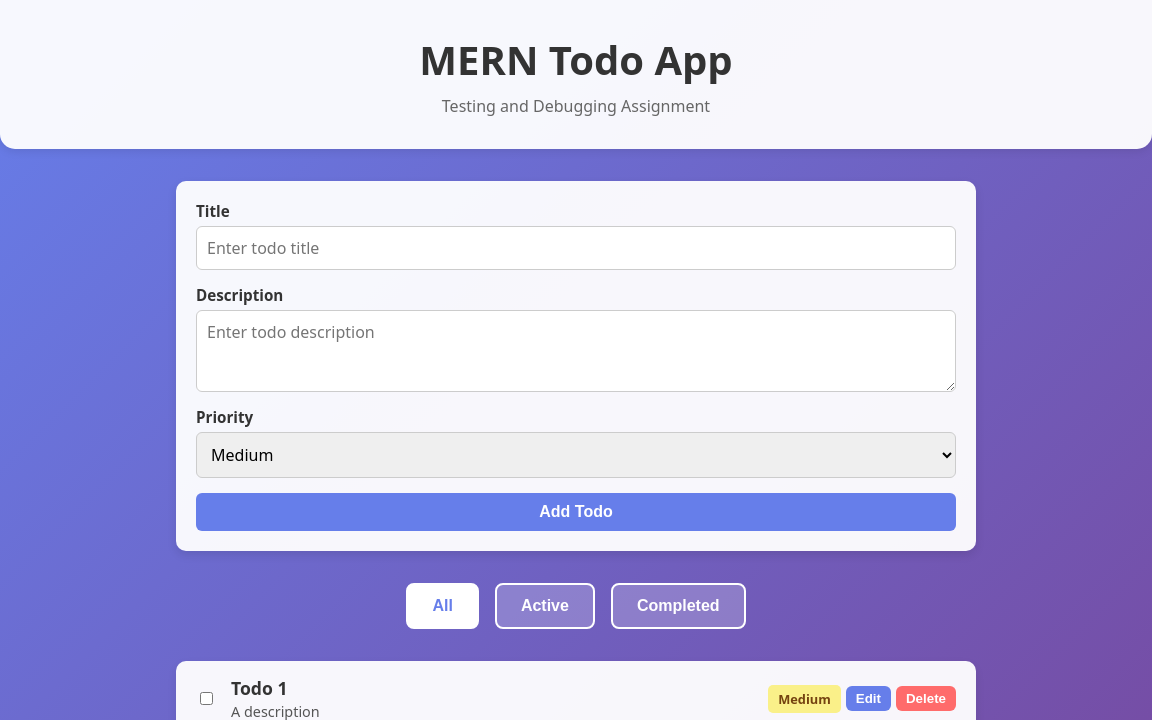
Test: App Component › deletes a todo
This screenshot has width=1152, height=720.
Expected: the heading "Todo 1" is shown, [231,676,288,700]
Click the button "Delete" at coordinates (926, 698), box [896,686,956,711]
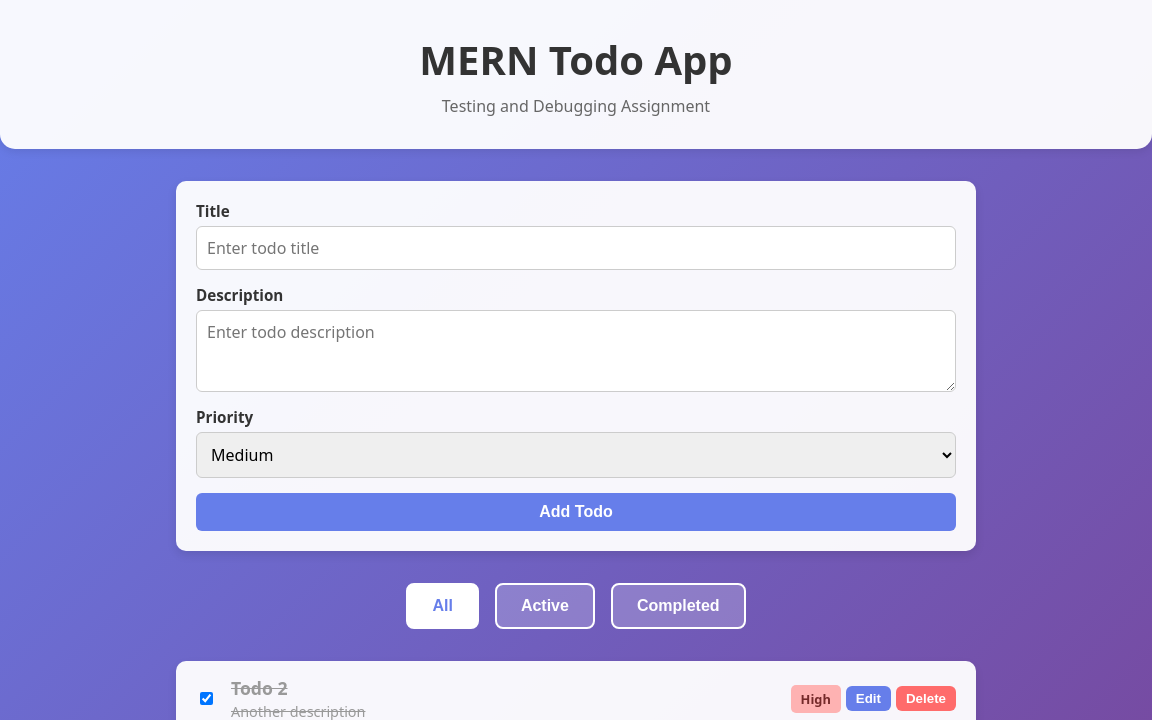
Expected: the heading "Todo 1" is gone
